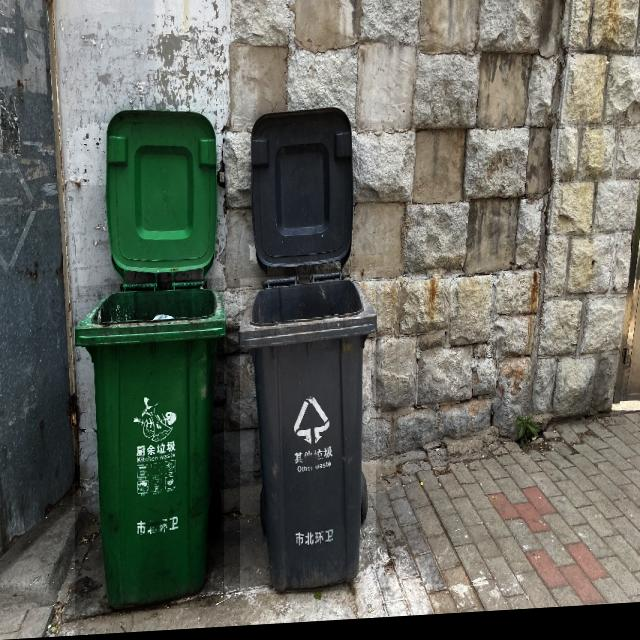garbage_bin: (75, 281, 224, 616), (240, 275, 376, 598)
